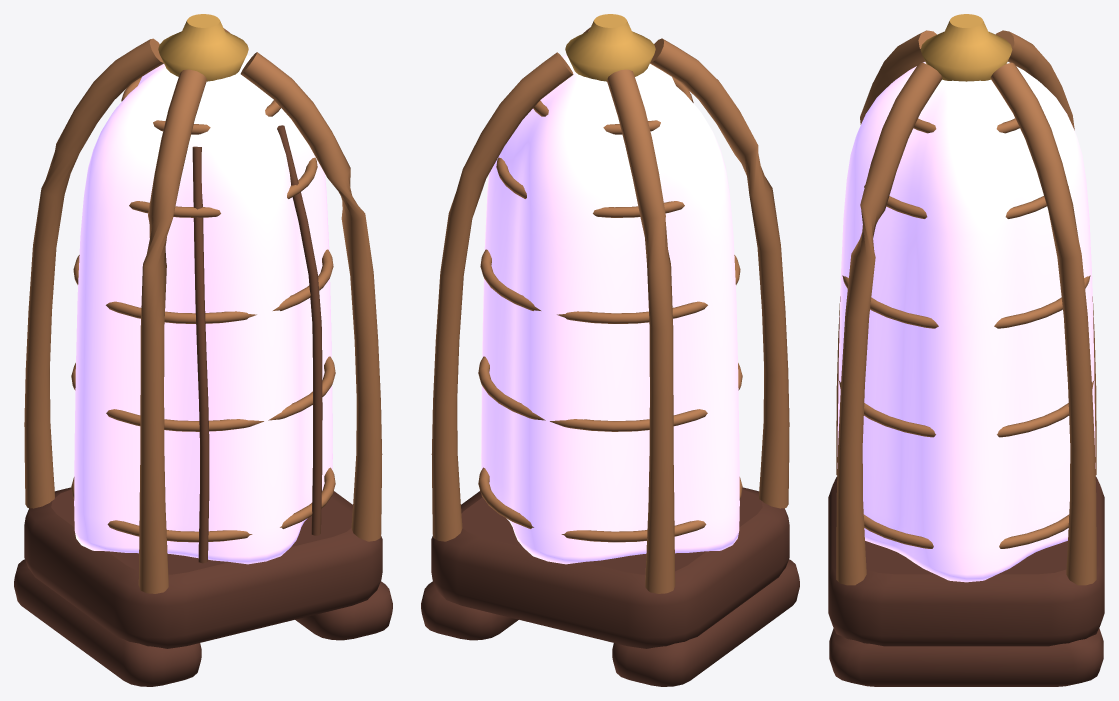
Rendered from atelier_paper_lamp.glb.
3 views of the same model, side by side, from view 1: azimuth 30°, elevation 25°; view 2: azimuth 150°, elevation 25°; view 3: azimuth 270°, elevation 25° (orthographic).
Visible parts, largest first — view 1: Farol de papel; view 2: Farol de papel; view 3: Farol de papel.
Part boxes in pixels (bbox=[...]): Farol de papel: bbox=[14, 14, 392, 686]; Farol de papel: bbox=[421, 14, 799, 686]; Farol de papel: bbox=[828, 14, 1104, 686].
Bounding box in the file's own units: 0.5 × 1.08 × 0.445.
